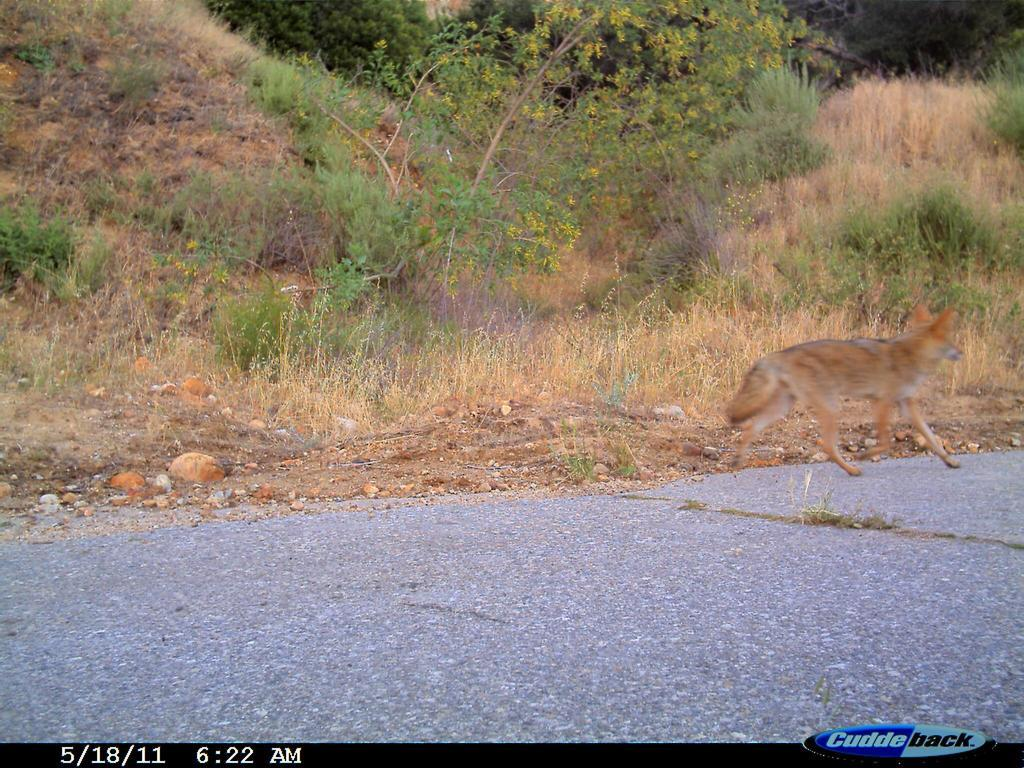coyote: (716, 289, 971, 496)
